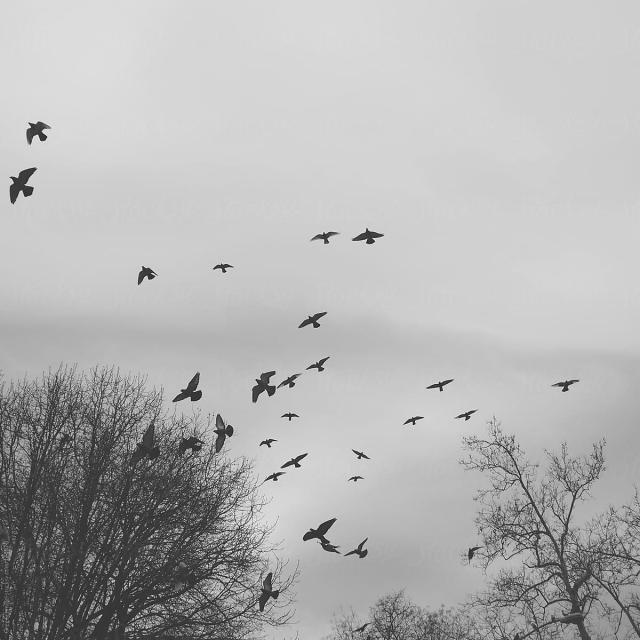bird: (128, 424, 161, 468), (7, 166, 40, 205), (300, 516, 338, 544), (171, 371, 203, 404), (211, 412, 236, 454), (250, 370, 278, 405), (258, 572, 280, 612), (21, 118, 52, 146), (173, 561, 197, 592), (352, 226, 384, 248), (297, 310, 328, 330), (136, 263, 160, 288), (343, 537, 369, 560), (178, 435, 205, 456), (308, 230, 342, 246), (279, 452, 309, 469), (276, 372, 303, 390), (304, 354, 330, 372), (549, 378, 580, 393), (210, 260, 238, 276), (424, 378, 454, 392), (316, 540, 342, 555), (453, 408, 479, 422), (263, 470, 288, 483), (468, 546, 484, 566), (349, 621, 372, 634), (402, 415, 425, 427), (349, 448, 372, 460), (279, 411, 301, 422), (258, 437, 277, 449), (346, 474, 365, 483)
